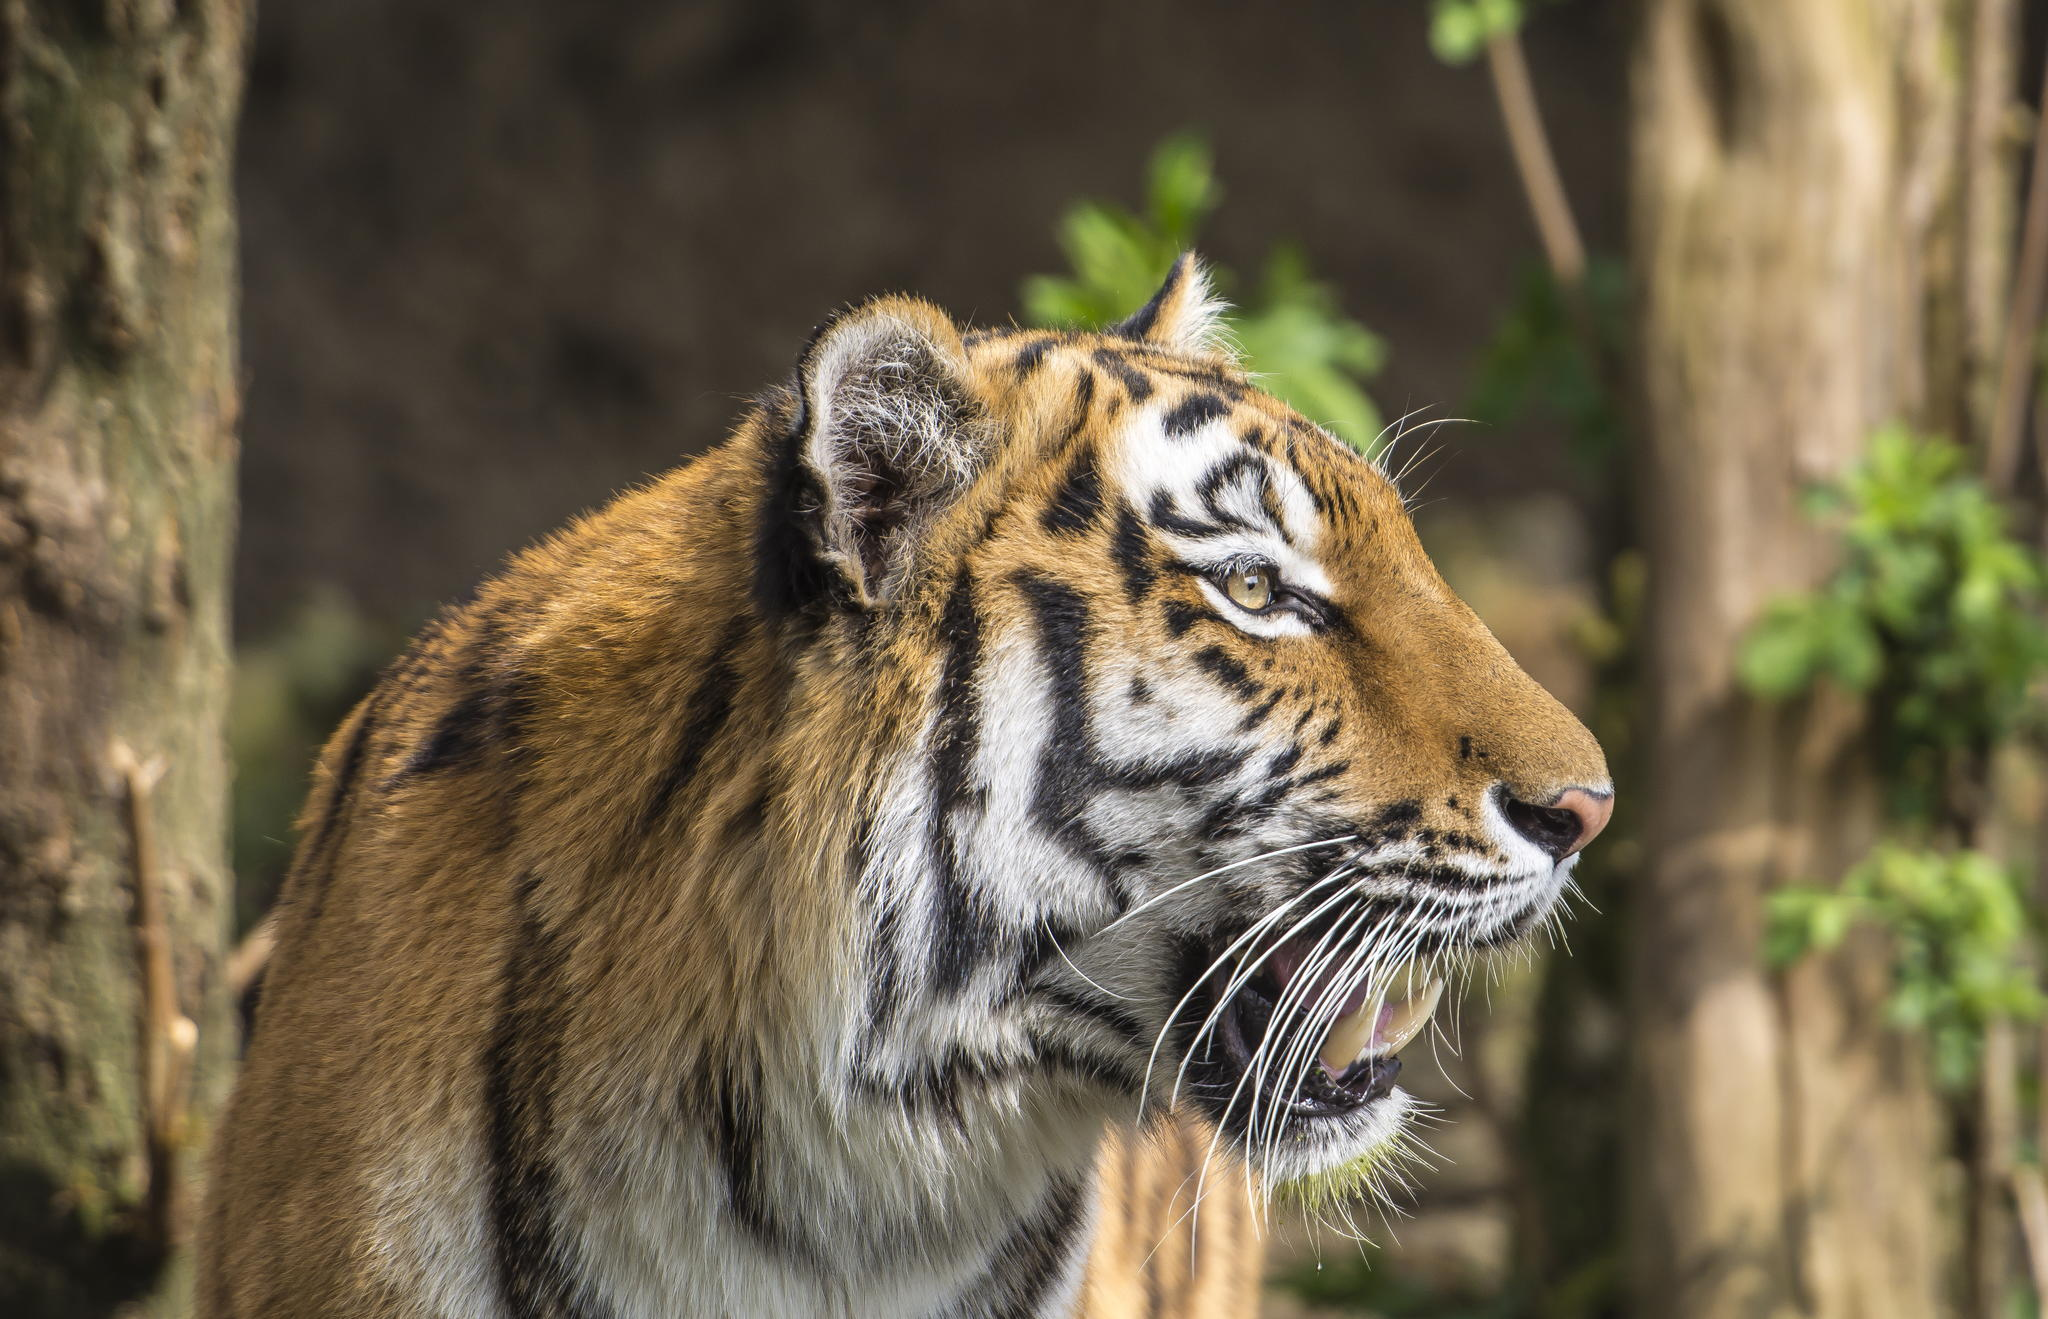tiger: (328, 318, 1582, 1228)
